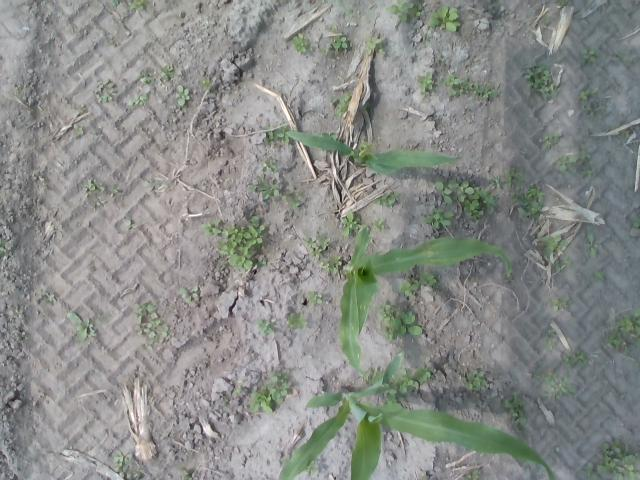Maize: (274, 349, 560, 480), (338, 223, 513, 380), (281, 130, 464, 174), (335, 0, 366, 20)
Weeds: (216, 214, 268, 273), (581, 439, 640, 480), (448, 176, 502, 220), (381, 366, 434, 406), (250, 368, 292, 415), (376, 300, 422, 340), (132, 300, 170, 346), (603, 306, 640, 353), (442, 72, 499, 100), (66, 310, 110, 342), (524, 63, 559, 101), (510, 186, 544, 222), (540, 371, 576, 400), (504, 391, 528, 432), (112, 450, 144, 480), (578, 86, 608, 118), (426, 5, 461, 32), (386, 0, 424, 22), (248, 172, 280, 198), (339, 210, 366, 236), (260, 123, 292, 144), (561, 346, 588, 370), (422, 208, 452, 229), (303, 234, 329, 258), (92, 80, 118, 104), (540, 234, 568, 256), (461, 368, 488, 390), (330, 90, 352, 115), (394, 276, 420, 297), (578, 144, 594, 178), (418, 267, 442, 288), (372, 190, 400, 208), (290, 33, 314, 54), (416, 70, 434, 98), (364, 34, 386, 56), (321, 254, 344, 274), (362, 366, 385, 386), (540, 130, 563, 150), (554, 154, 578, 173), (504, 166, 526, 186), (435, 180, 452, 205), (283, 188, 304, 208), (542, 327, 560, 350), (552, 256, 576, 273), (287, 311, 308, 330), (200, 218, 222, 236), (174, 84, 192, 106), (178, 286, 200, 304), (82, 178, 106, 194), (580, 46, 600, 64), (585, 232, 599, 256), (330, 34, 349, 51), (140, 178, 168, 189), (138, 70, 157, 86), (358, 138, 377, 154), (614, 123, 633, 139), (550, 296, 571, 310), (160, 63, 176, 81), (126, 93, 148, 106), (258, 318, 274, 335), (304, 459, 320, 476), (36, 289, 56, 302), (261, 156, 277, 172), (320, 130, 340, 142), (372, 218, 388, 232), (307, 290, 324, 303), (130, 0, 149, 11), (462, 470, 480, 480), (200, 76, 212, 90), (180, 468, 193, 480), (73, 122, 85, 135), (0, 236, 8, 255), (320, 45, 330, 58), (8, 308, 24, 316), (630, 216, 640, 228), (590, 271, 605, 279), (123, 218, 133, 230), (420, 470, 432, 480), (504, 272, 514, 283), (616, 49, 626, 59), (108, 186, 120, 194), (328, 24, 340, 32), (532, 372, 542, 381), (362, 102, 372, 111), (542, 14, 551, 24), (109, 0, 121, 7), (435, 56, 445, 64), (94, 200, 107, 206), (451, 360, 459, 368), (556, 0, 568, 4), (235, 388, 242, 394), (14, 86, 20, 92), (154, 477, 160, 480)
